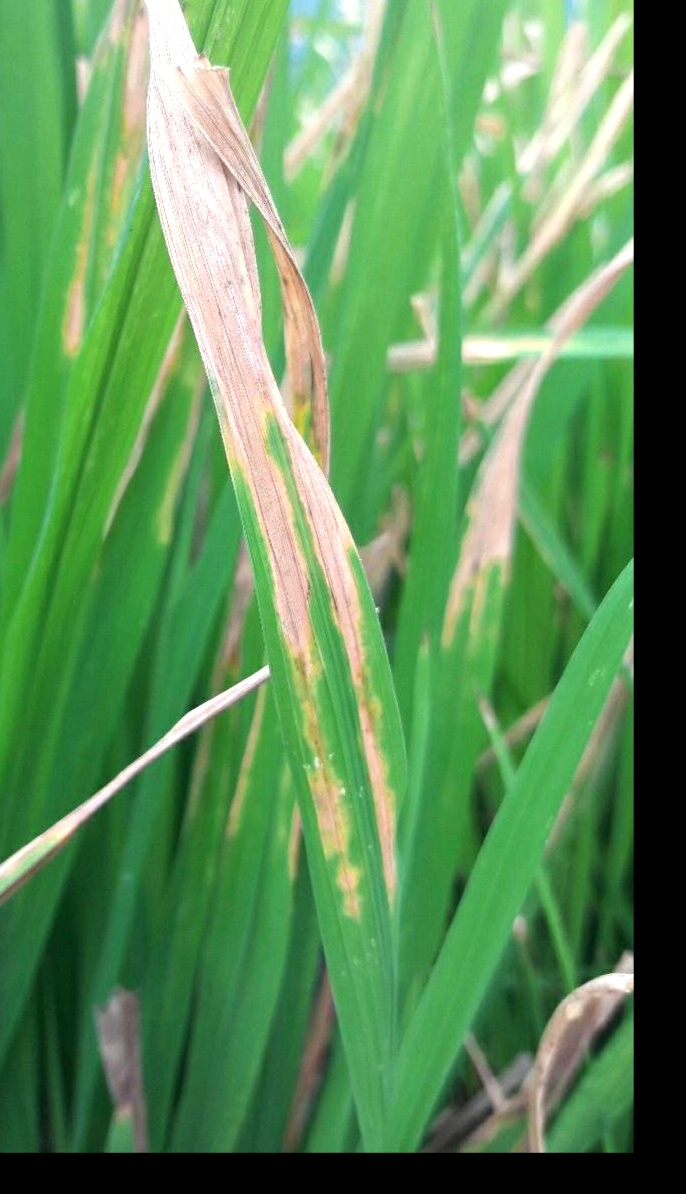Leaf_Blast: (143, 0, 407, 944)
